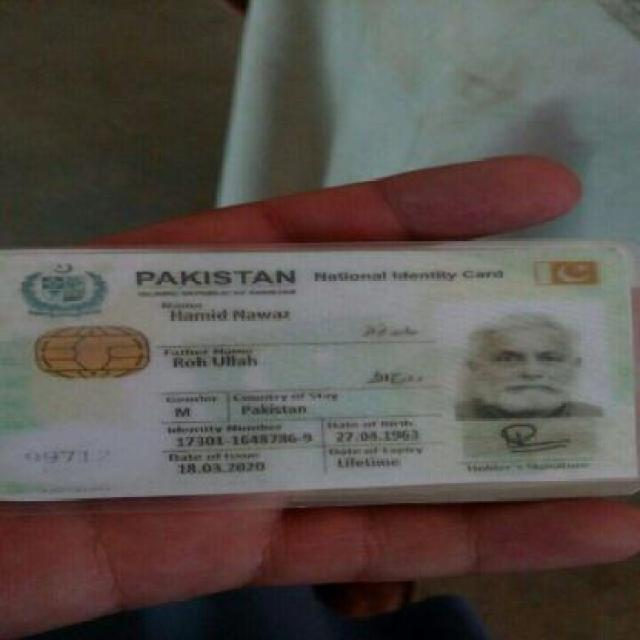Front: (5, 238, 626, 488)
